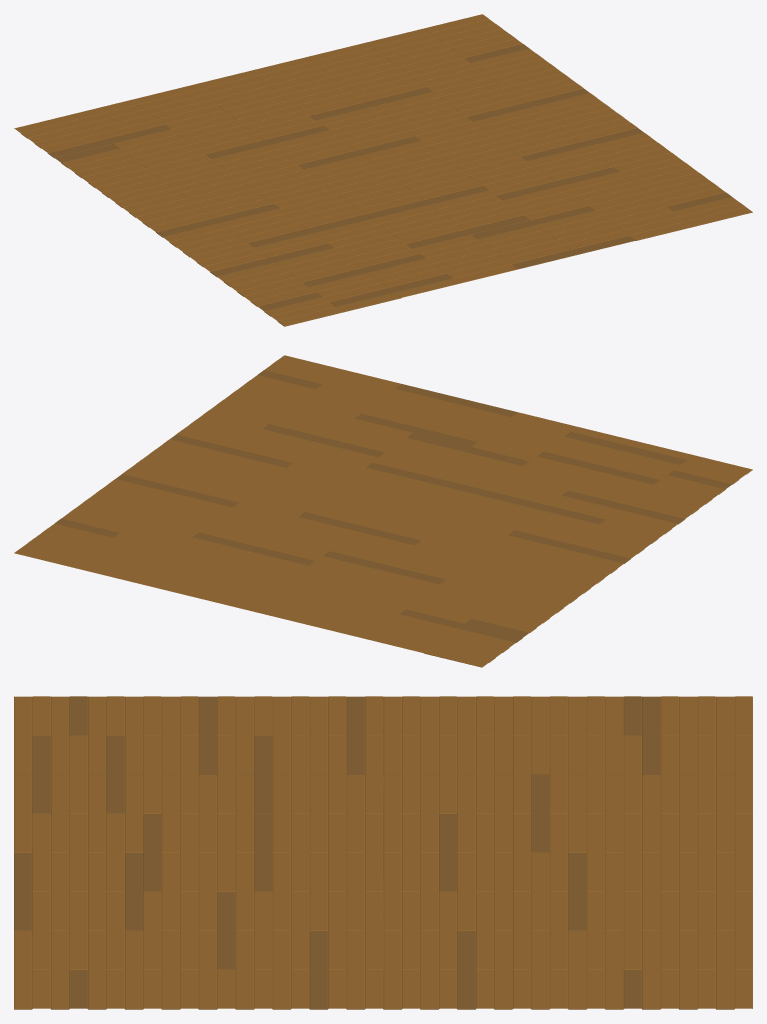
File: Floorong-2.fbx
3 views of the same model, one above another, from view 1: azimuth 30°, elevation 25°; view 2: azimuth 150°, elevation 25°; view 3: azimuth 270°, elevation 25° (orthographic). The views are drawn at different scales.
Visible parts, largest first — view 1: Flooring4x4; view 2: Flooring4x4; view 3: Flooring4x4.
Part boxes in pixels (x1,y1,x2,y2): Flooring4x4: (14, 14, 752, 326); Flooring4x4: (14, 355, 752, 667); Flooring4x4: (14, 696, 752, 1009).
Bounding box in the file's own units: 5.76 × 0.006 × 5.76.
